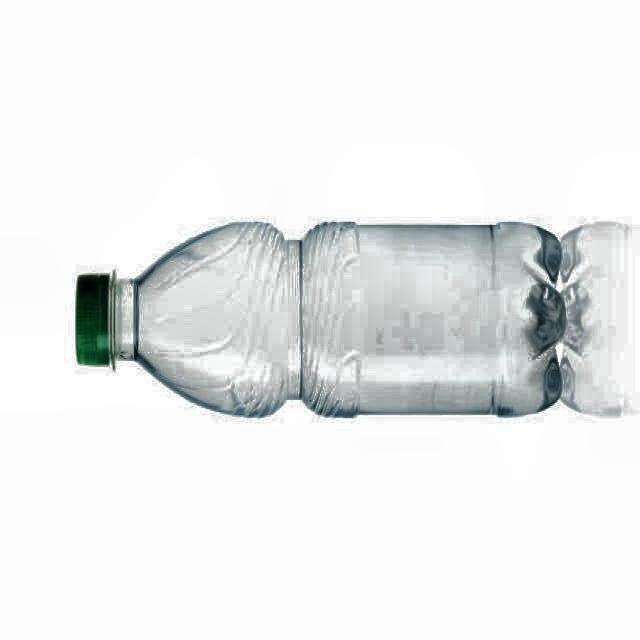plastic: (76, 222, 565, 416)
